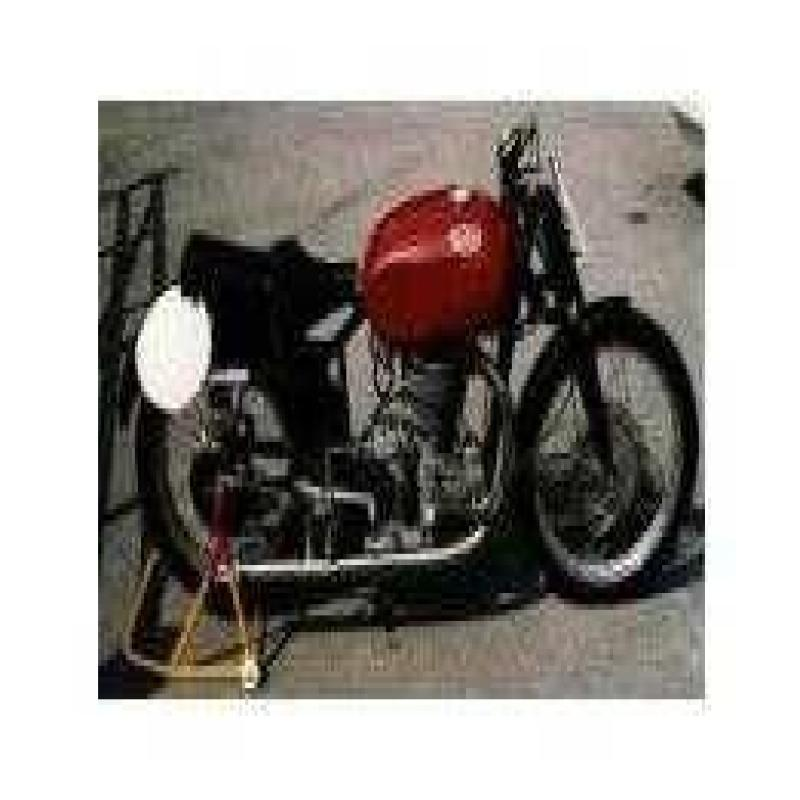bike: (113, 102, 702, 619)
